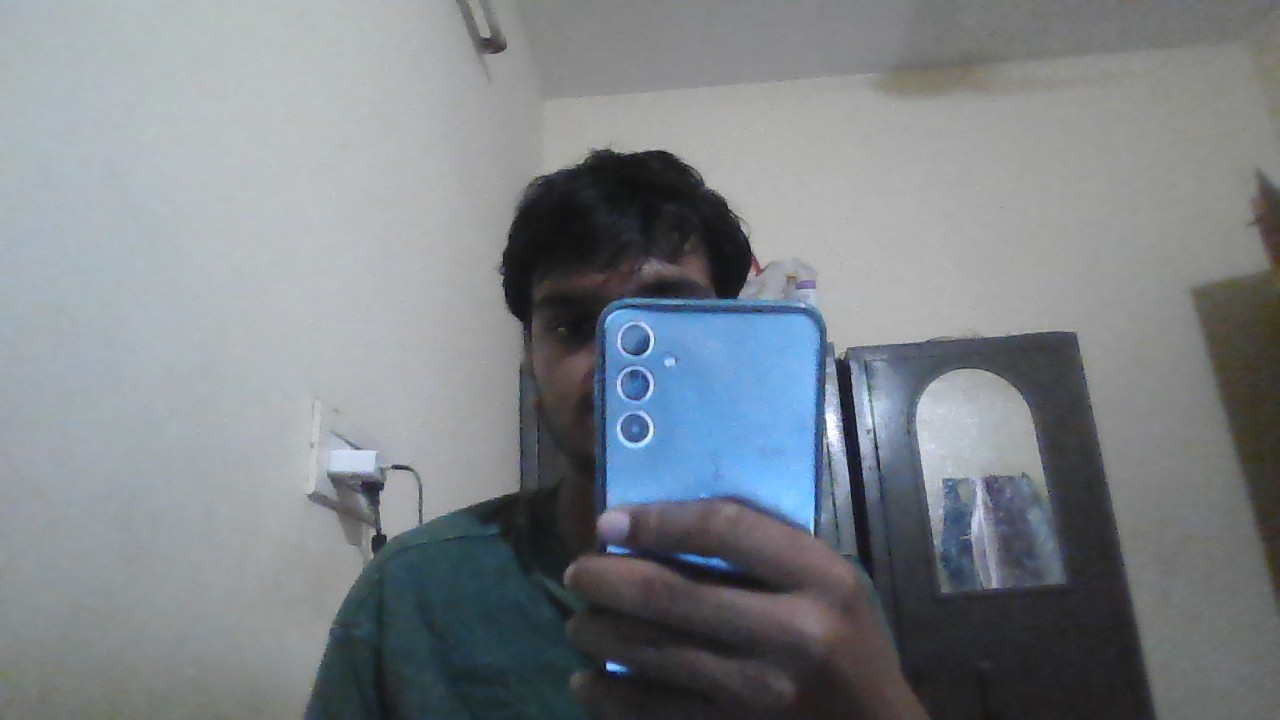phone: (595, 298, 828, 500)
